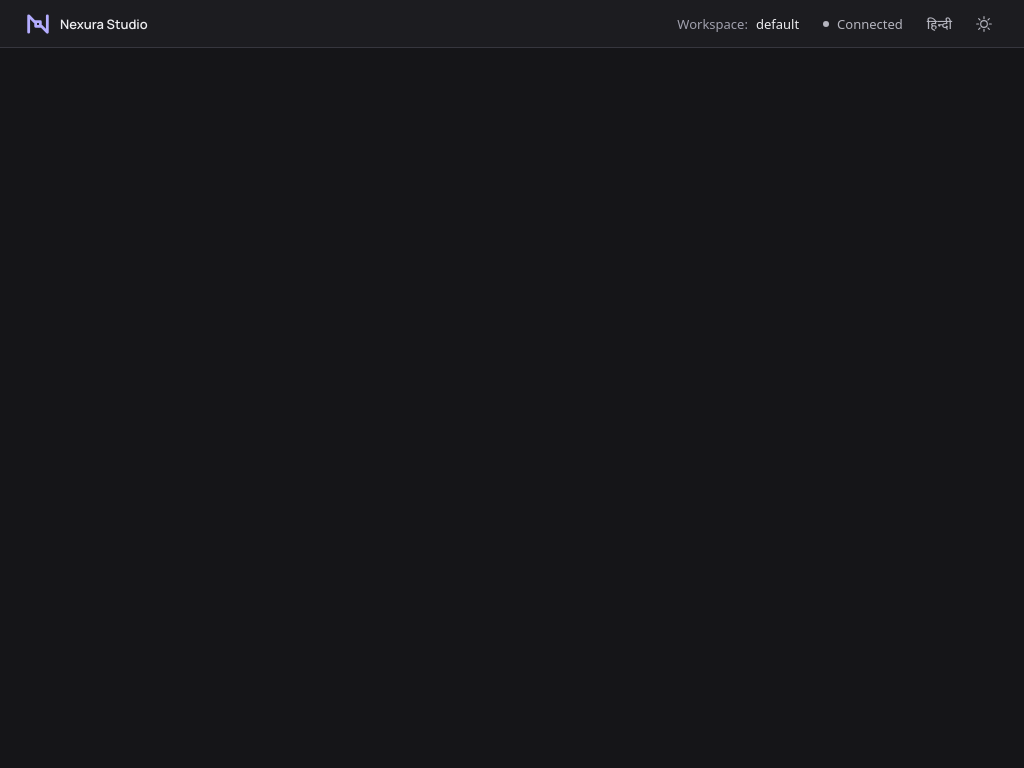
it: Localized shell controls and recovery › announces active language, workspace, connection and theme, and updates html lang
The image size is (1024, 768).
Check: the button with aria-label "Active workspace selector: default" is shown, box 669,8 -> 807,40
Check: the button with aria-label "Service connection status: Connected" is shown, box 815,8 -> 911,40
Click the button named "Toggle Theme: dark theme active; switch to light" at (984, 24), box 968,8 -> 1000,40
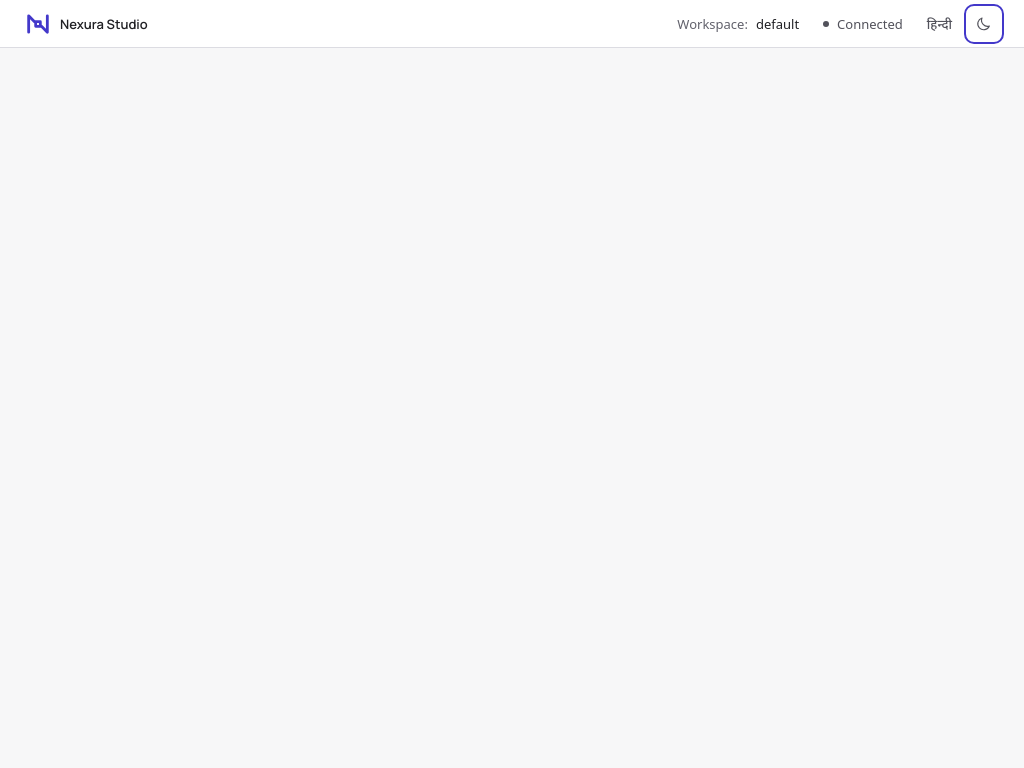
Check: the button named "Toggle Theme: light theme active; switch to dark" is shown, box 968,8 -> 1000,40
Click the button named "Toggle Language: English" at (939, 24), box 919,8 -> 960,40
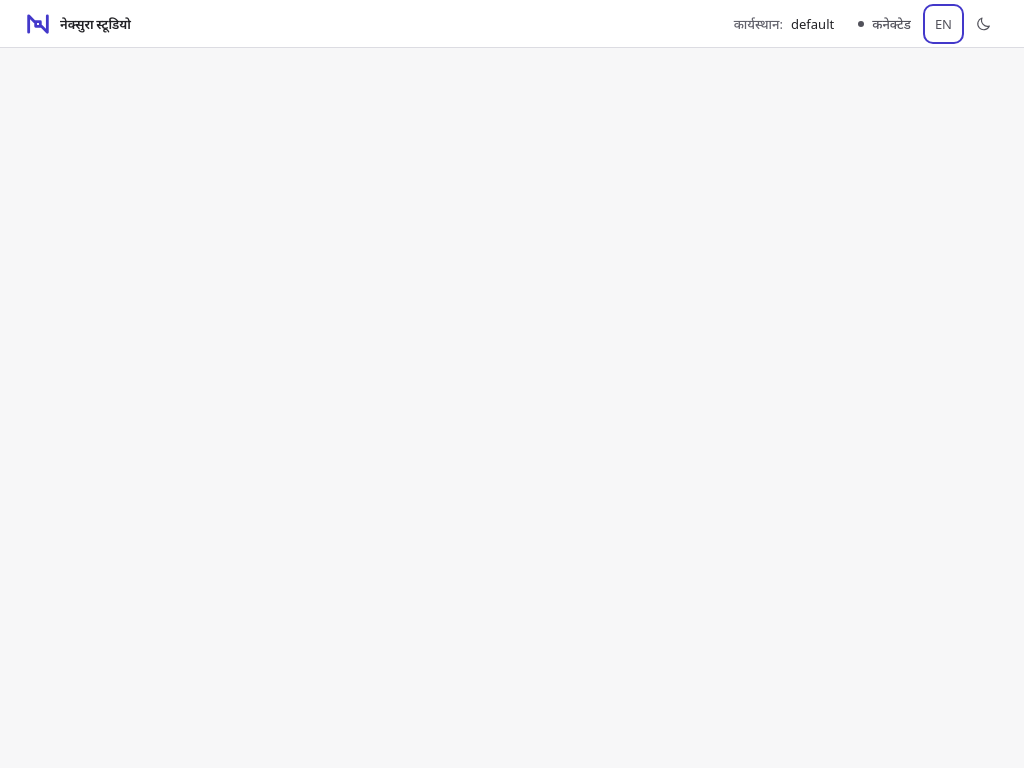
Check: the button with aria-label "वर्तमान भाषा हिन्दी है; अंग्रेज़ी (EN) में बदलें" is shown, box 927,8 -> 960,40
Check: the button named "हल्की थीम सक्रिय है; गहरी थीम में बदलें" is shown, box 968,8 -> 1000,40
Check: the button with aria-label "सक्रिय कार्यक्षेत्र चुनें: default" is shown, box 726,8 -> 842,40
